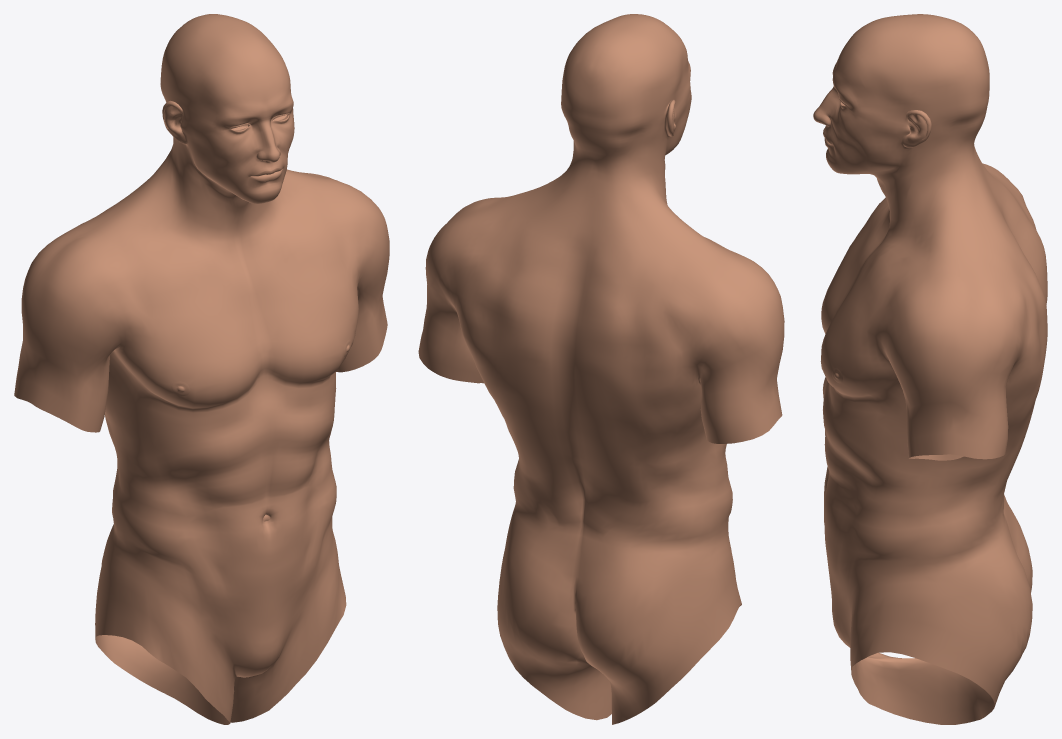
File: digestive_system.glb
The picture shows the model from 3 angles, left to right: view 1: azimuth 30°, elevation 25°; view 2: azimuth 150°, elevation 25°; view 3: azimuth 270°, elevation 25°; orthographic projection. The views are drawn at different scales.
Visible parts, largest first — view 1: skin; view 2: skin; view 3: skin.
Boxes of the visible parts, x1,y1,x2,y2 form: skin: (14,14,389,724); skin: (418,14,784,724); skin: (813,14,1047,724).
Bounding box in the file's own units: 52.51 × 98.63 × 29.83.
